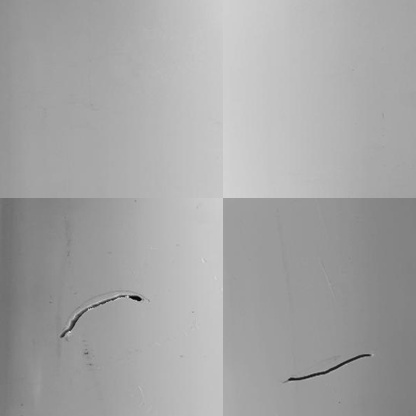fengxi: (54, 285, 150, 349), (279, 349, 378, 389)
